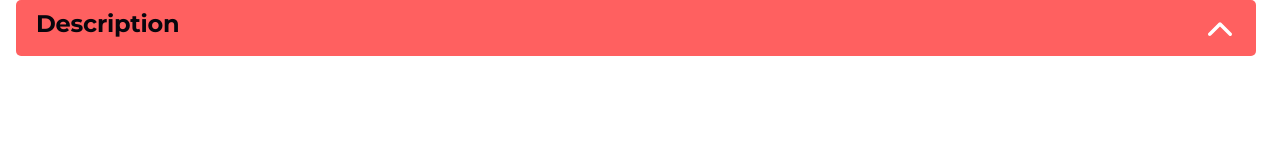
Scenario: Collapse › s'ouvre au clic sur l'en-tête
What coordinates should you click on to do the following:
click the heading "Description"
I would click on:
 (108, 24)
Its box is left=36, top=10, right=179, bottom=38.
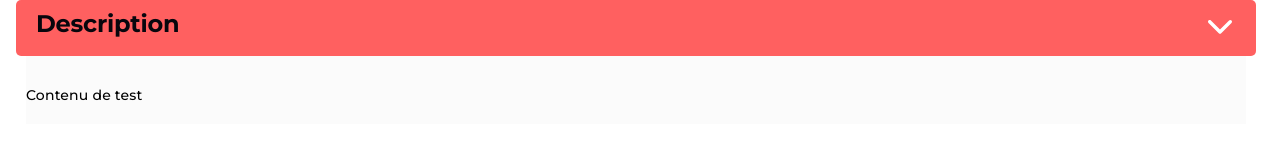
expect the picture with alt text "flèche" has class "open": met, box left=1204, top=12, right=1236, bottom=44
